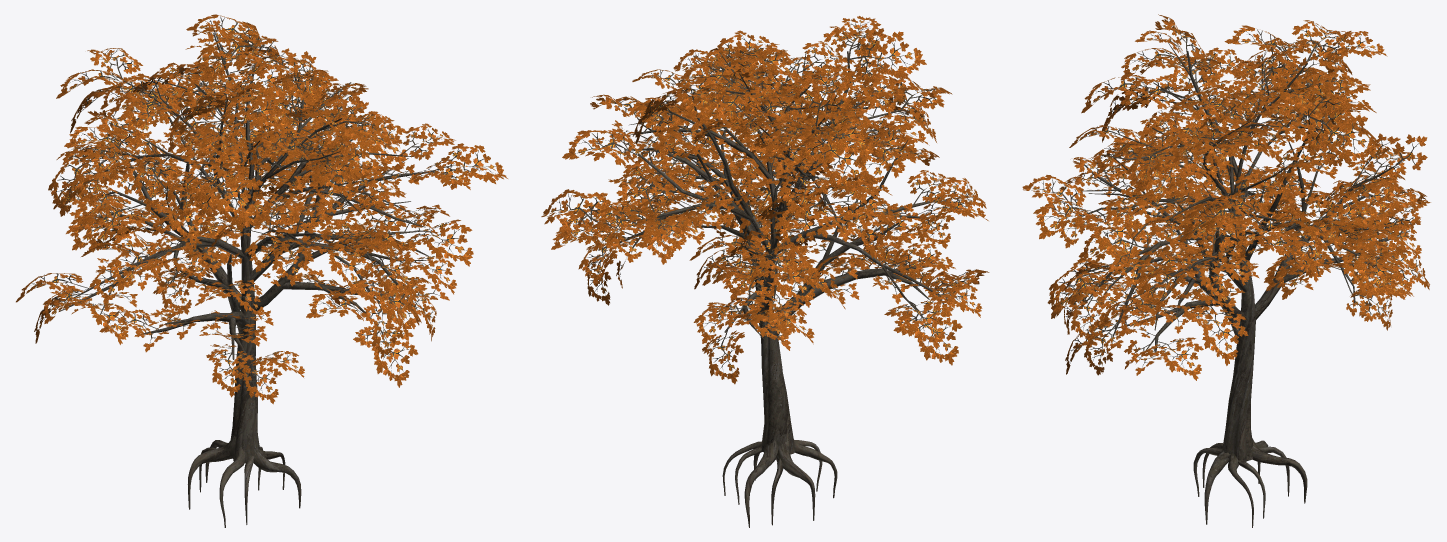
Rendered from Tree3-1-Leaves.fbx.
The picture shows the model from 3 angles, left to right: view 1: azimuth 30°, elevation 25°; view 2: azimuth 150°, elevation 25°; view 3: azimuth 270°, elevation 25°; orthographic projection. The views are drawn at different scales.
Parts seen in each view (by area): view 1: Tree3-1-Leaves_LOD0; view 2: Tree3-1-Leaves_LOD0; view 3: Tree3-1-Leaves_LOD0.
Boxes of the visible parts, x1,y1,x2,y2 form: Tree3-1-Leaves_LOD0: (16, 14, 507, 527); Tree3-1-Leaves_LOD0: (541, 16, 989, 527); Tree3-1-Leaves_LOD0: (1022, 14, 1430, 527).
Size of what is drawn, in the model's own units: 6.8 by 5.75 by 6.97.
